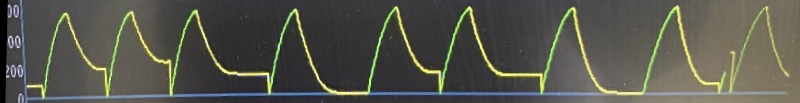leakage: (0, 2, 750, 103)
normal_volume: (540, 1, 652, 100)
